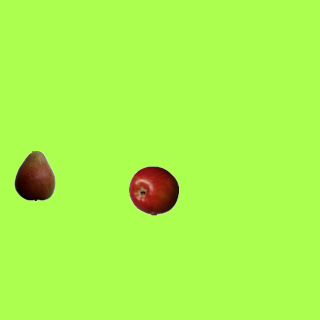Apple Braeburn: (128, 165, 178, 215)
Pear Forelle: (9, 150, 59, 200)
